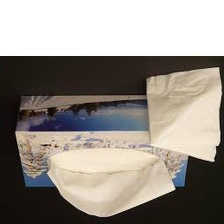book: (9, 88, 194, 193)
tissue: (38, 144, 179, 224), (139, 62, 224, 166)
